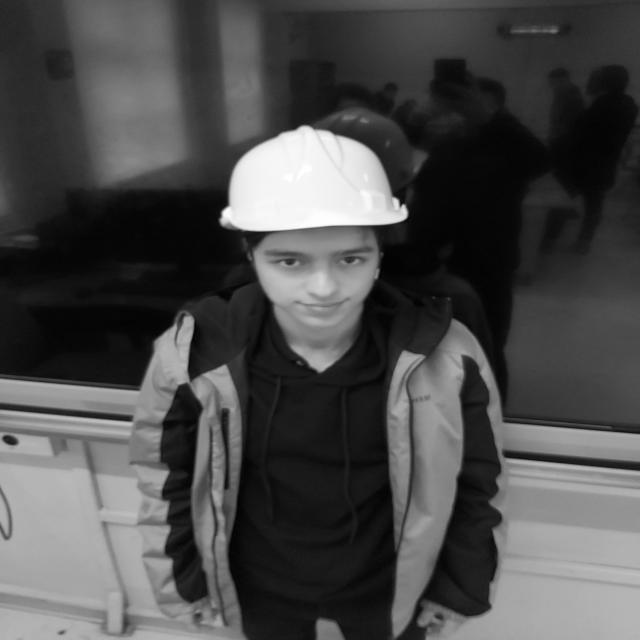safety_helmet: (218, 128, 407, 237)
